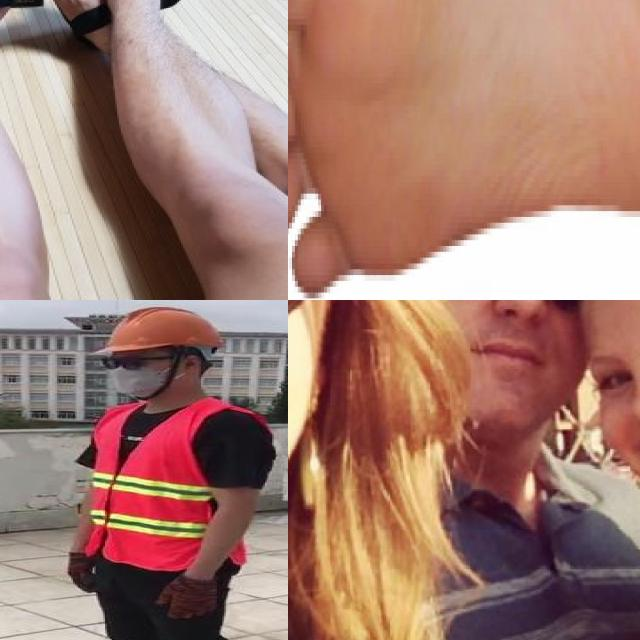Barefoots: (288, 0, 640, 285)
face_mask: (101, 355, 169, 399)
face_nomask: (419, 300, 610, 398), (590, 328, 640, 487)
glasses: (412, 300, 627, 328), (97, 353, 150, 372)
hand_glove: (155, 575, 219, 619), (68, 553, 96, 594)
head_helmet: (92, 306, 228, 354)
person: (44, 303, 284, 640)
vest: (89, 400, 247, 569)
